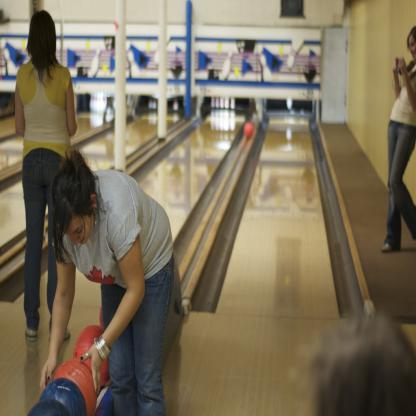Ball: (53, 358, 96, 416), (75, 326, 111, 386), (42, 379, 87, 416), (29, 402, 68, 416), (244, 122, 254, 137)
